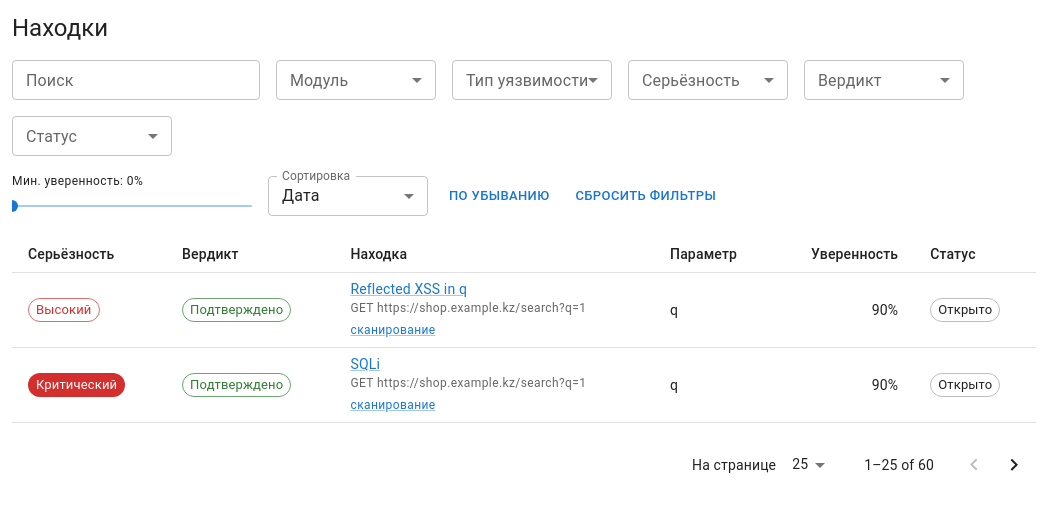
Test case: FindingsPage › filter Модуль updates the query string
Expected: the table named "Список находок" is shown, [12, 236, 1036, 423]
Click the dropdown named "Модуль" next to "Модуль".
click(356, 80)  # box [276, 60, 436, 100]
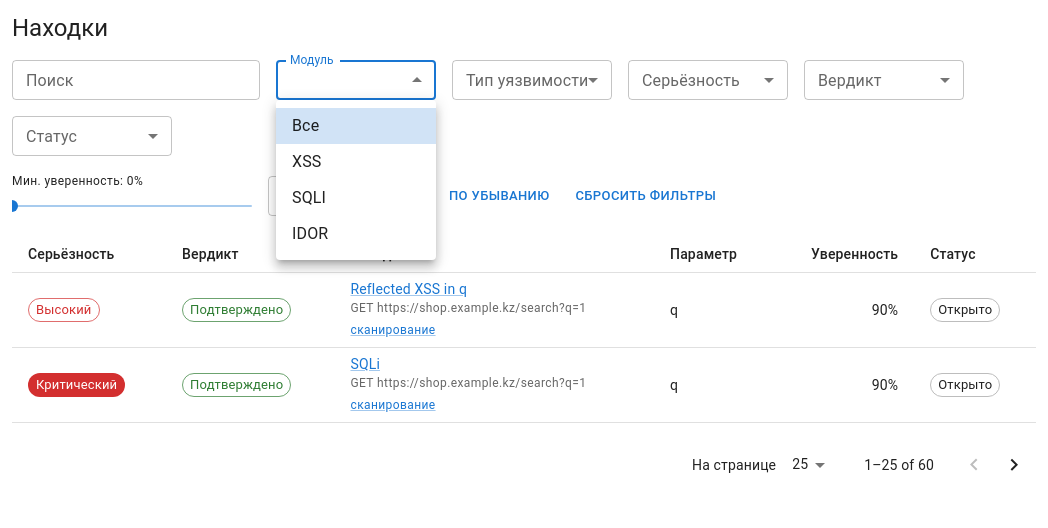
Click the option "SQLI".
click(309, 198)  # box [292, 188, 326, 207]
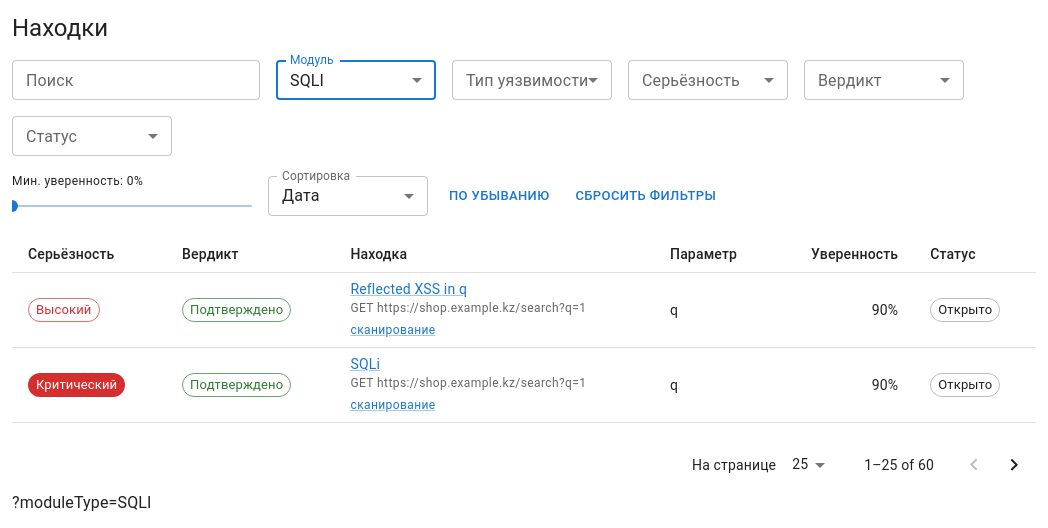
Now the text with test id "search" shows "moduleType=SQLI", box [12, 493, 152, 512]
